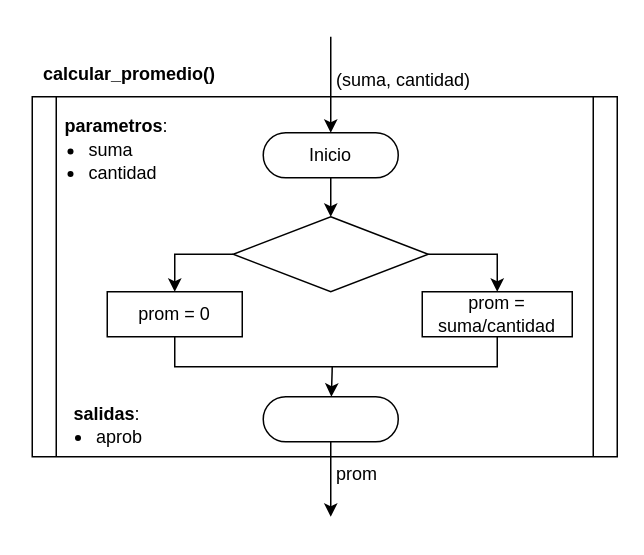
Image size: 644x555. Some labels were removed from this diagram. Each missing label, with the centre of its shape:
"cantidad == 0" goes at (330,253).
"return" goes at (330,418).
